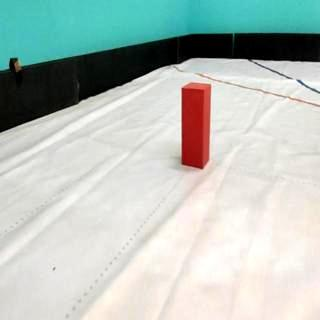redbox: (182, 81, 210, 170)
